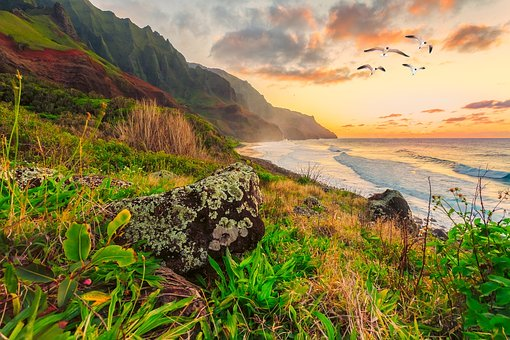field: (13, 125, 337, 340)
mountain: (14, 11, 308, 144)
sea: (248, 138, 510, 230)
sky: (211, 7, 510, 135)
